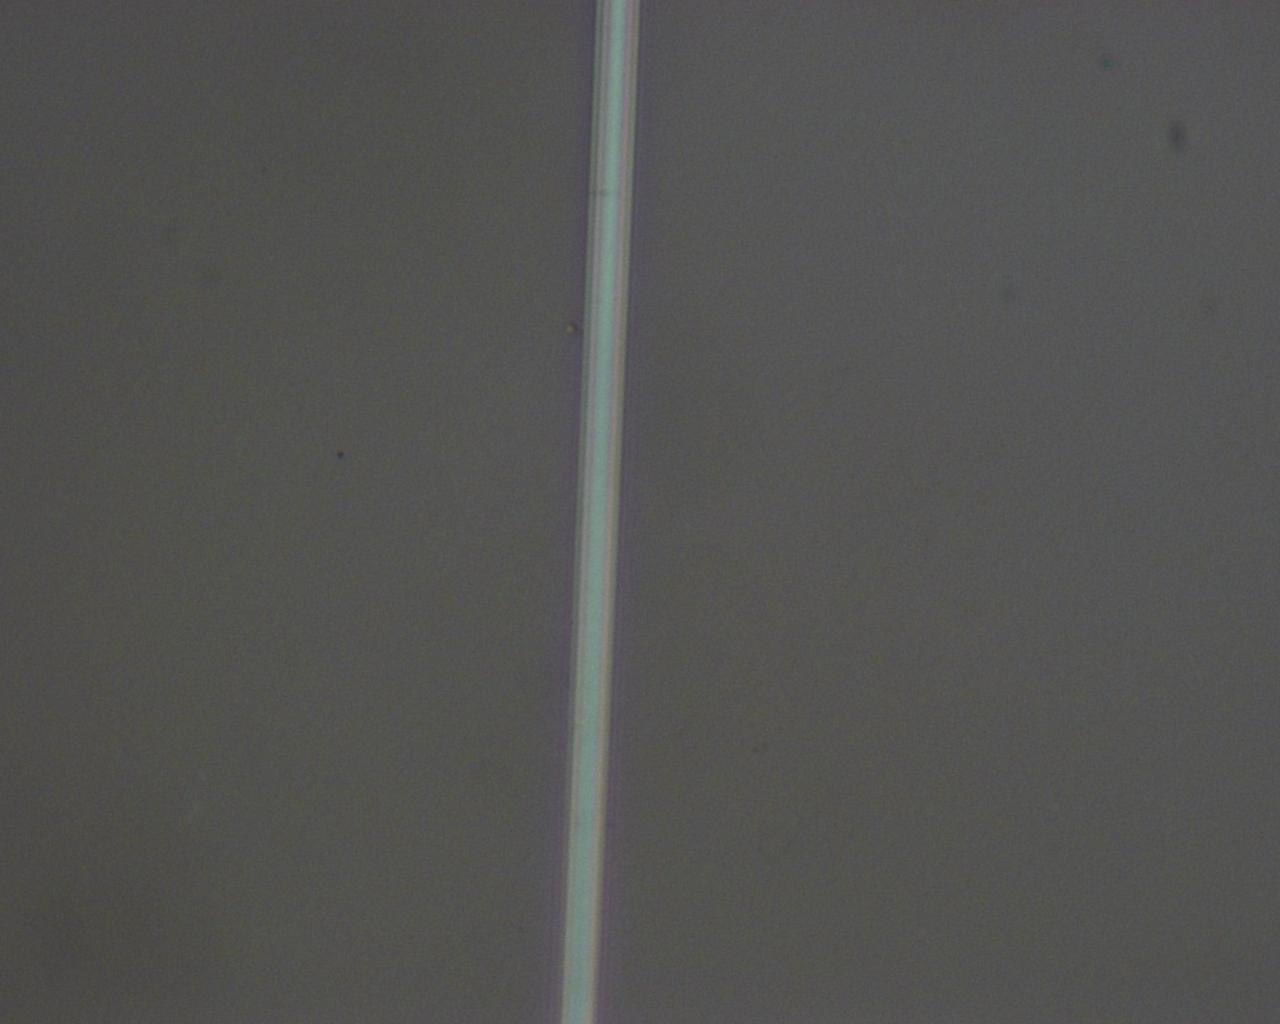fiber: (466, 1, 1112, 1019)
